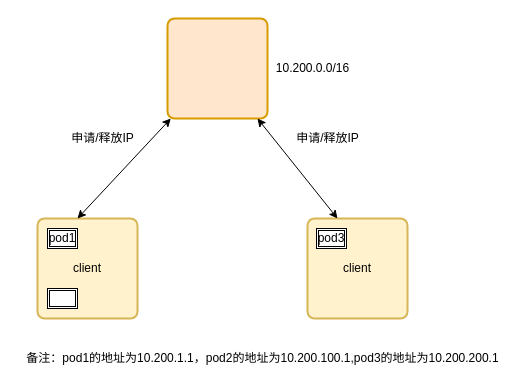
This 524x385 diagram has some shape labels left out. Each missing label, with the centre of its shape:
ipam-server: point (217, 68)
pod2: point (62, 298)
